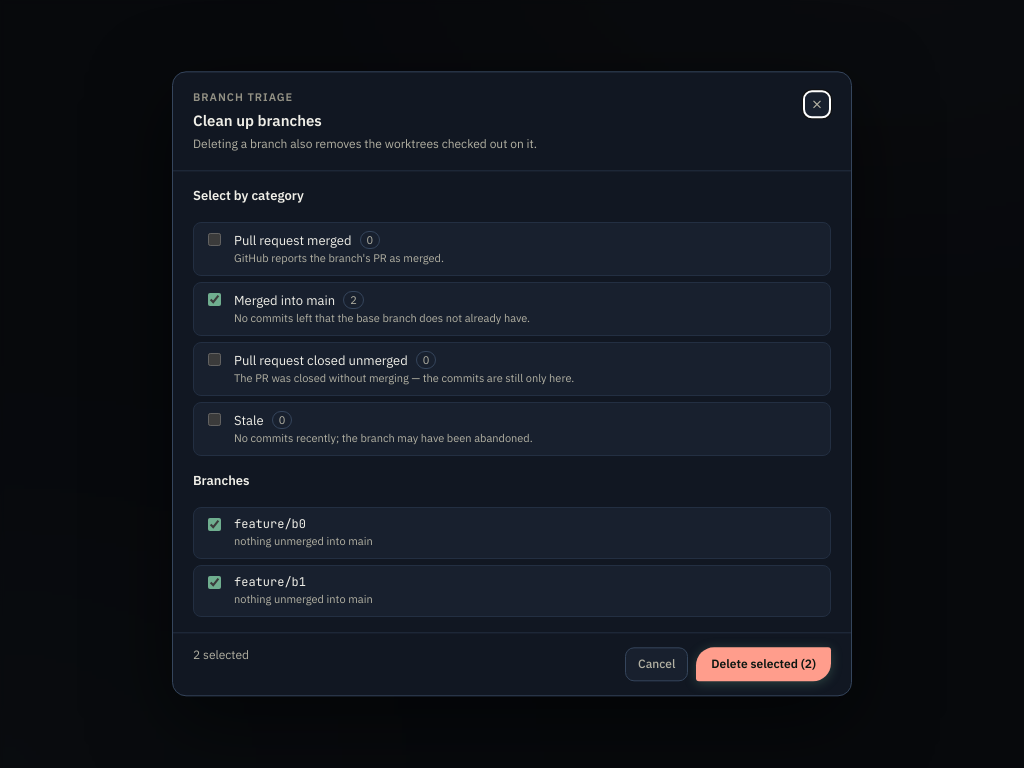
Test case: the footer status accrues refusals while the run is still going
Click the button "Delete selected (2)": (764, 664) [696,647,831,682]
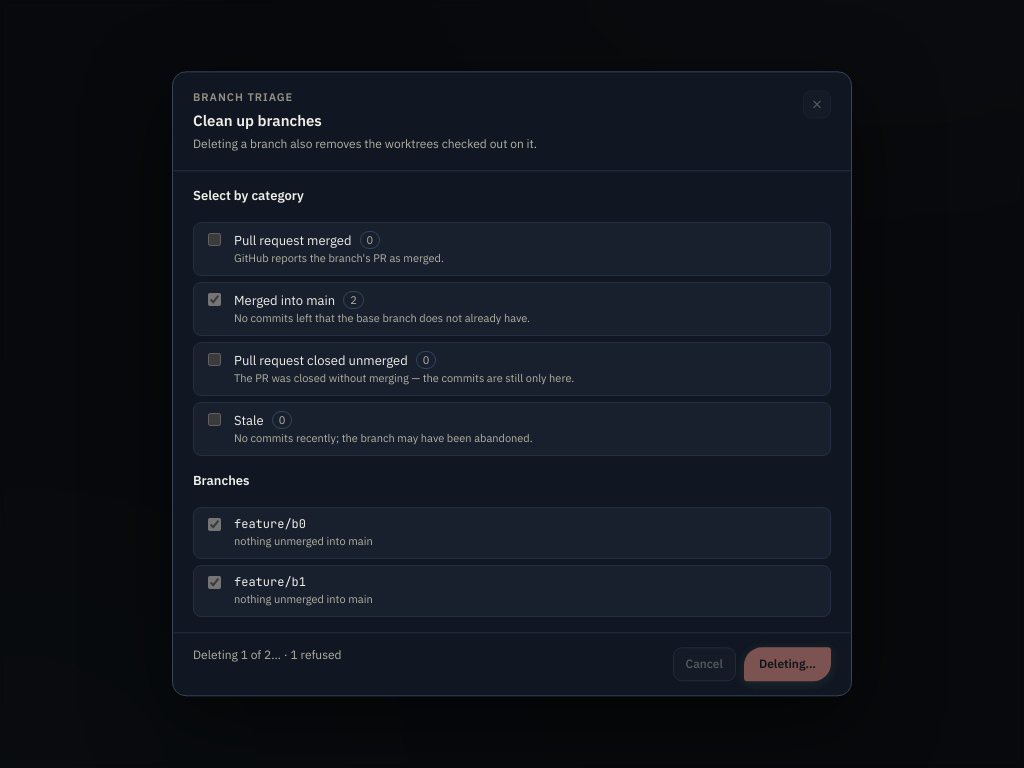
Check: the text with class "branch-cleanup-status" shows "1 refused", box [193,647,342,662]
Check: the text with class "branch-cleanup-status" reads "Deleting 1 of 2… · 1 refused", box [193,647,342,662]
